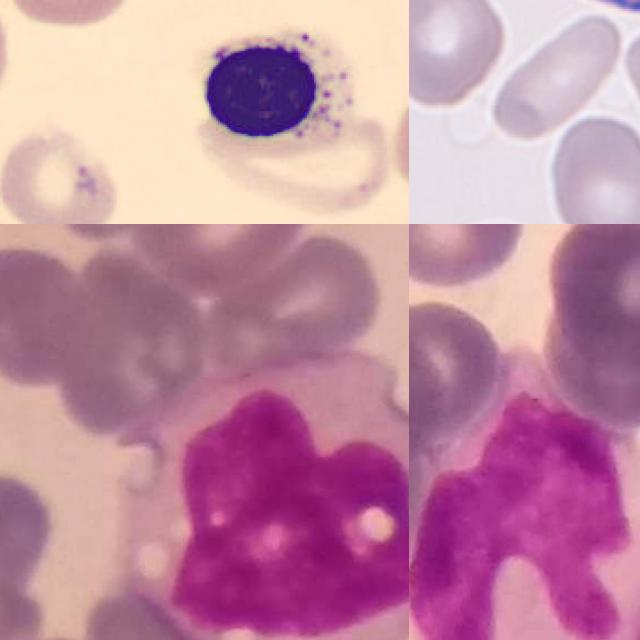Lymphocyte: (181, 18, 369, 164)
Monocyte: (130, 348, 409, 640), (409, 379, 640, 640)
RBC: (192, 95, 398, 224), (489, 9, 624, 142), (0, 123, 123, 224), (409, 0, 513, 110), (543, 110, 640, 224), (0, 0, 141, 32), (422, 211, 584, 224)
